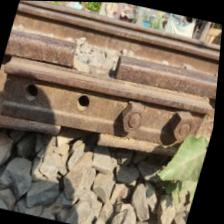person: (43, 24, 154, 102), (44, 108, 115, 163)
